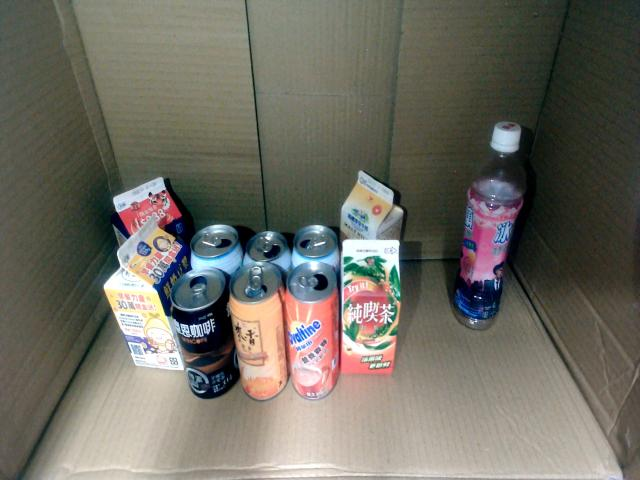Canned_drinks: (170, 267, 241, 400), (228, 260, 291, 403), (284, 260, 340, 401), (190, 224, 244, 278), (290, 224, 340, 280), (243, 230, 292, 282)
bottle: (450, 121, 525, 331)
